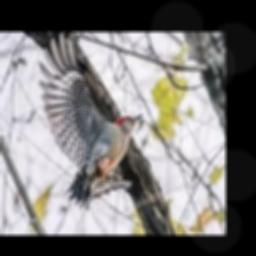Woodpecker: (39, 32, 142, 209)
